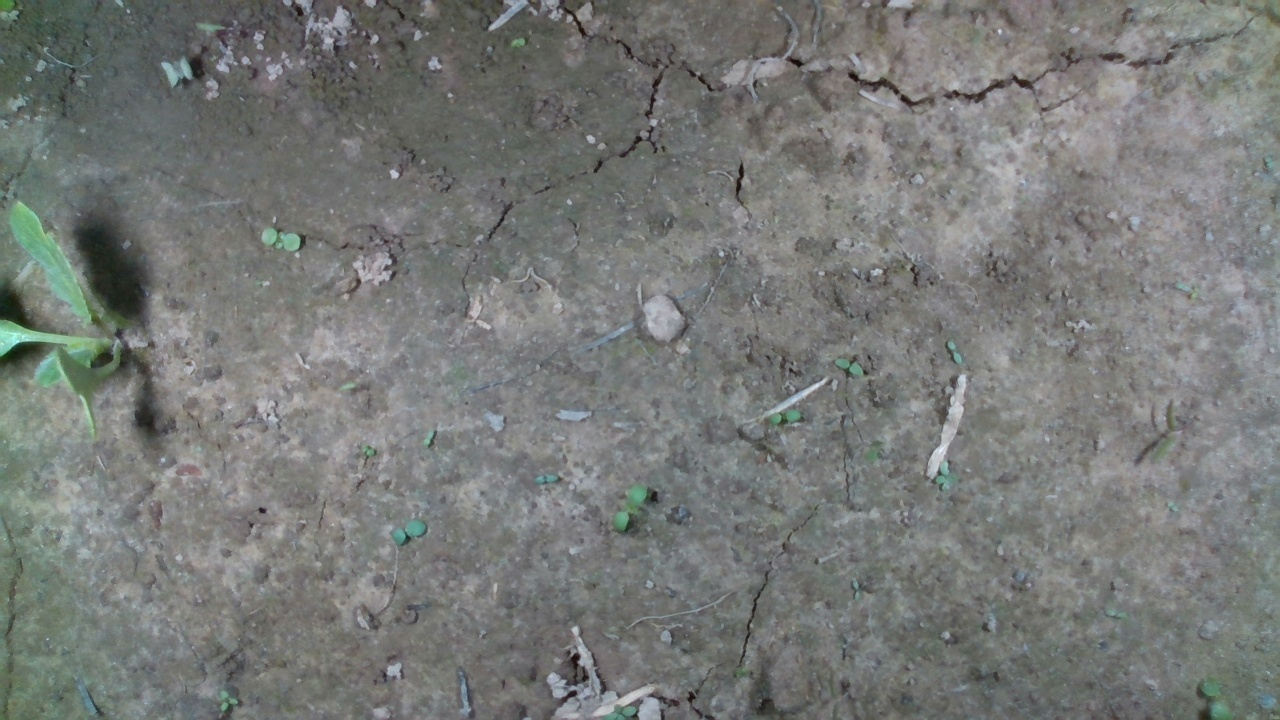weed: (611, 483, 649, 535), (387, 516, 429, 547), (258, 224, 303, 252), (833, 355, 865, 378), (217, 688, 241, 712), (945, 340, 964, 366), (531, 472, 559, 486), (422, 426, 436, 447), (359, 442, 376, 456), (1189, 284, 1201, 302)
